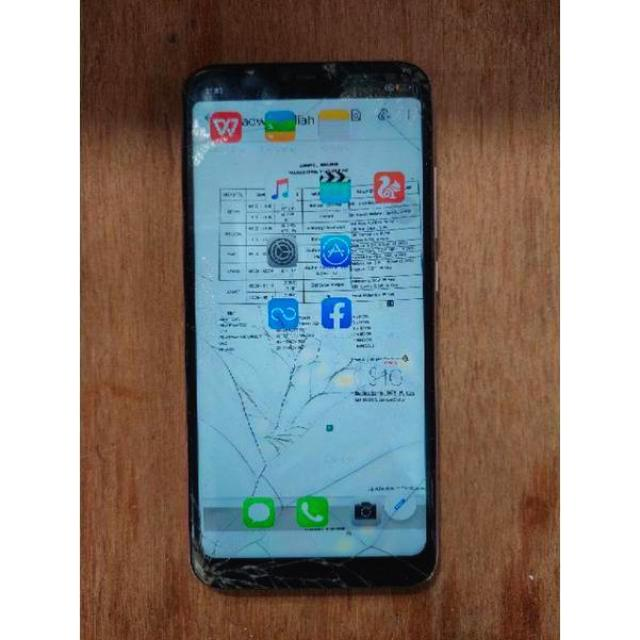phone: (181, 70, 446, 596)
